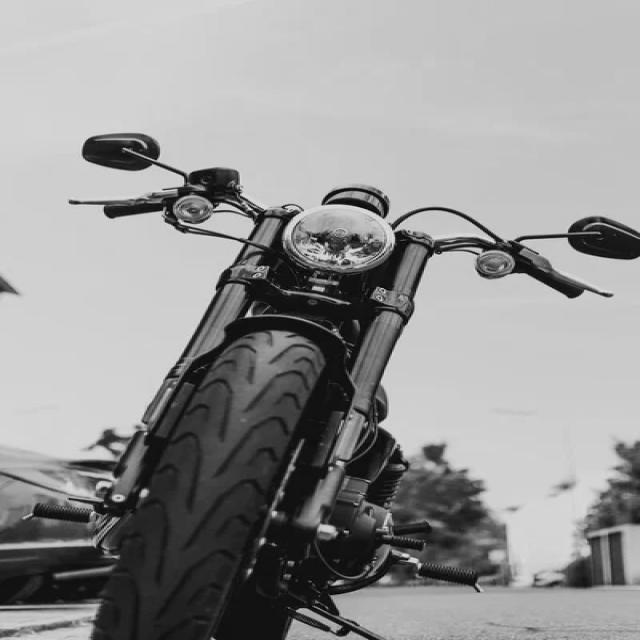Motorcycle: (29, 167, 609, 640)
